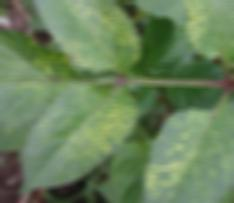Tomato leaf mosaic virus: (17, 81, 140, 195), (140, 97, 234, 203), (31, 0, 140, 75), (174, 0, 234, 74)
